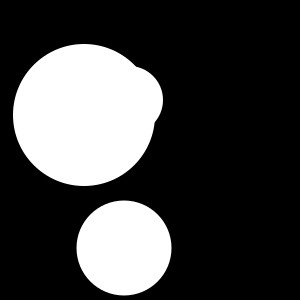circle: (87, 83, 106, 102)
rectangle: (13, 44, 155, 186), (76, 200, 172, 296), (95, 66, 163, 134)
